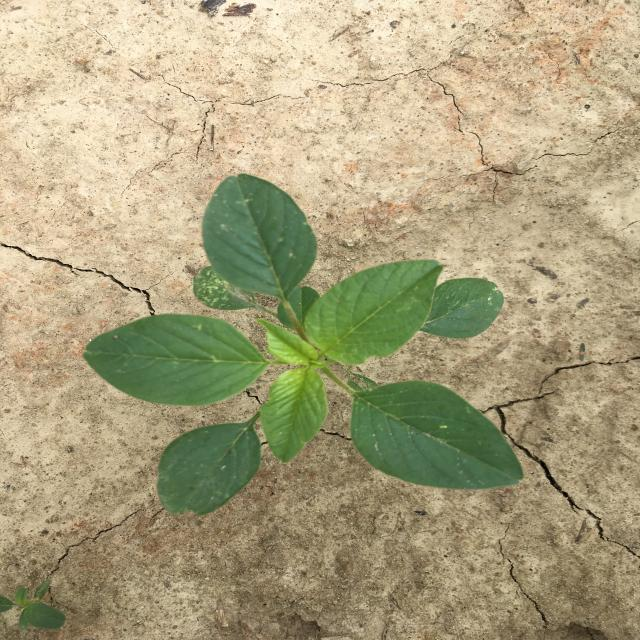PalmerAmaranth: (83, 173, 523, 516), (0, 579, 66, 632)
